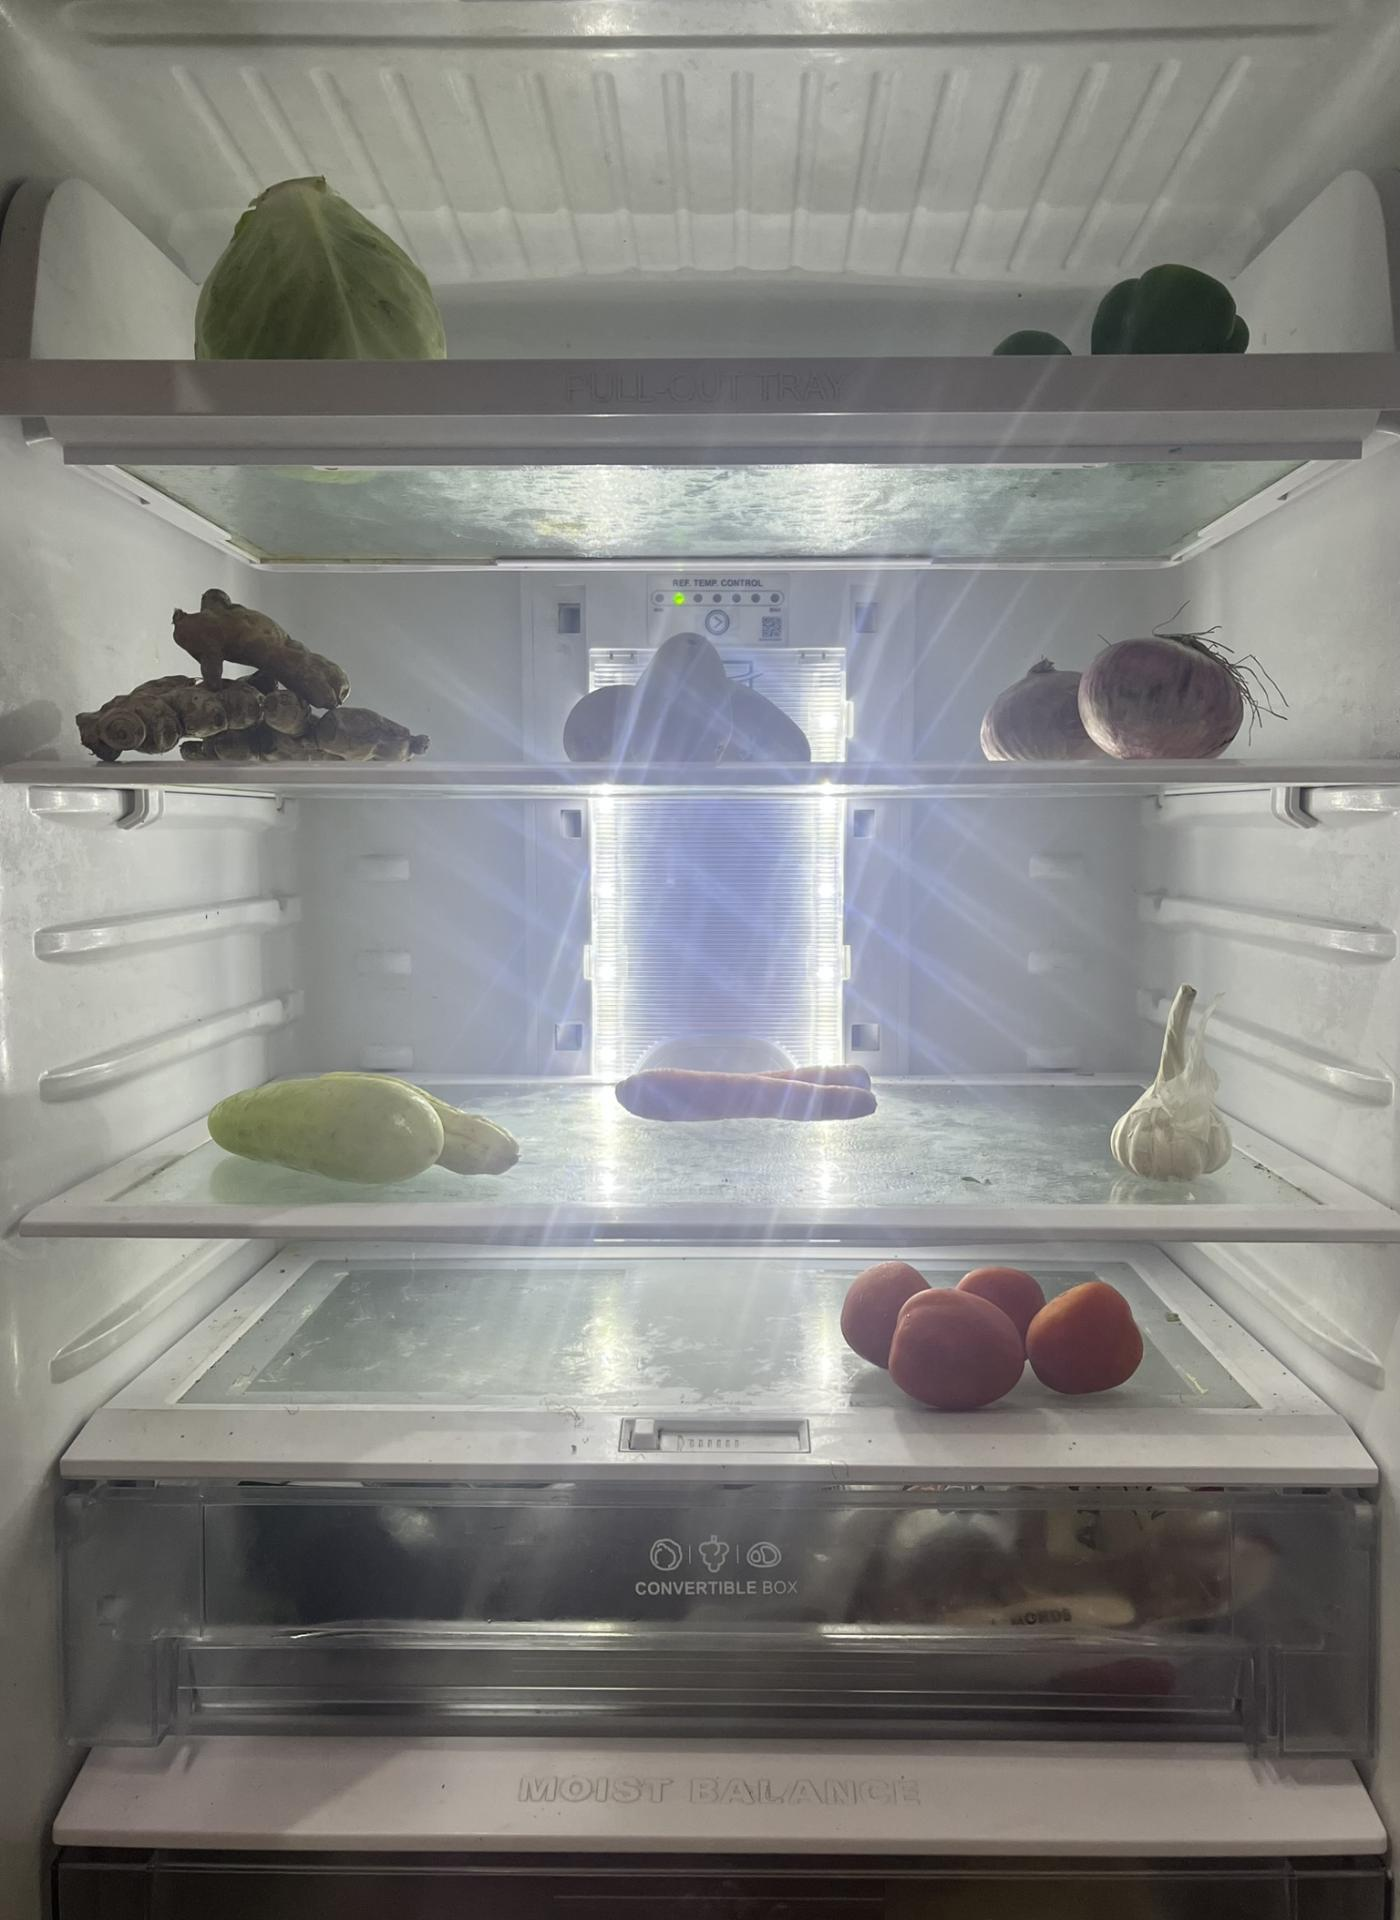cabbage: (207, 170, 441, 371)
capsicum: (1091, 264, 1243, 361)
carrots: (617, 1057, 886, 1127)
cucumber: (192, 1075, 505, 1172)
garlic: (1118, 976, 1235, 1181)
ginger: (82, 560, 432, 768)
onion: (994, 620, 1243, 771)
tomato: (848, 1258, 1155, 1397)
